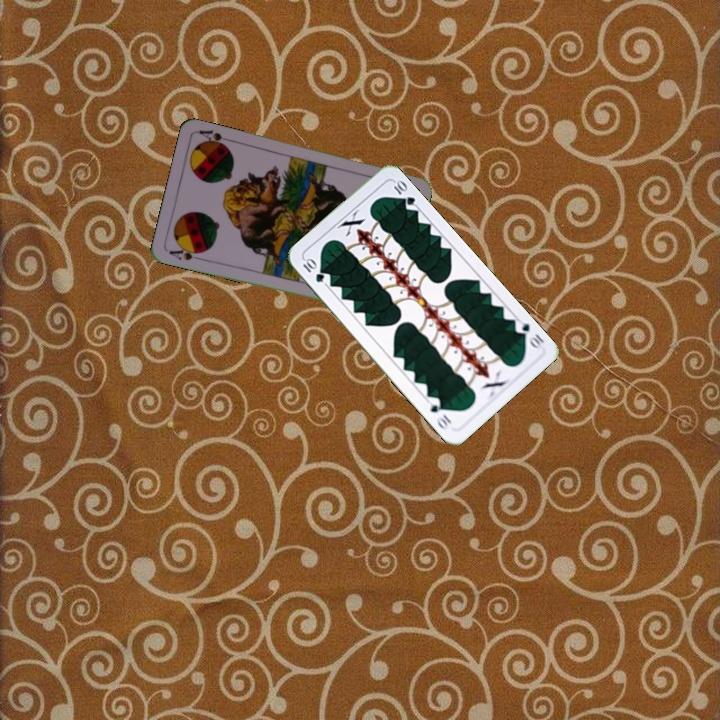G10: (510, 318, 547, 353), (299, 254, 327, 285)
SA: (165, 242, 206, 263)
